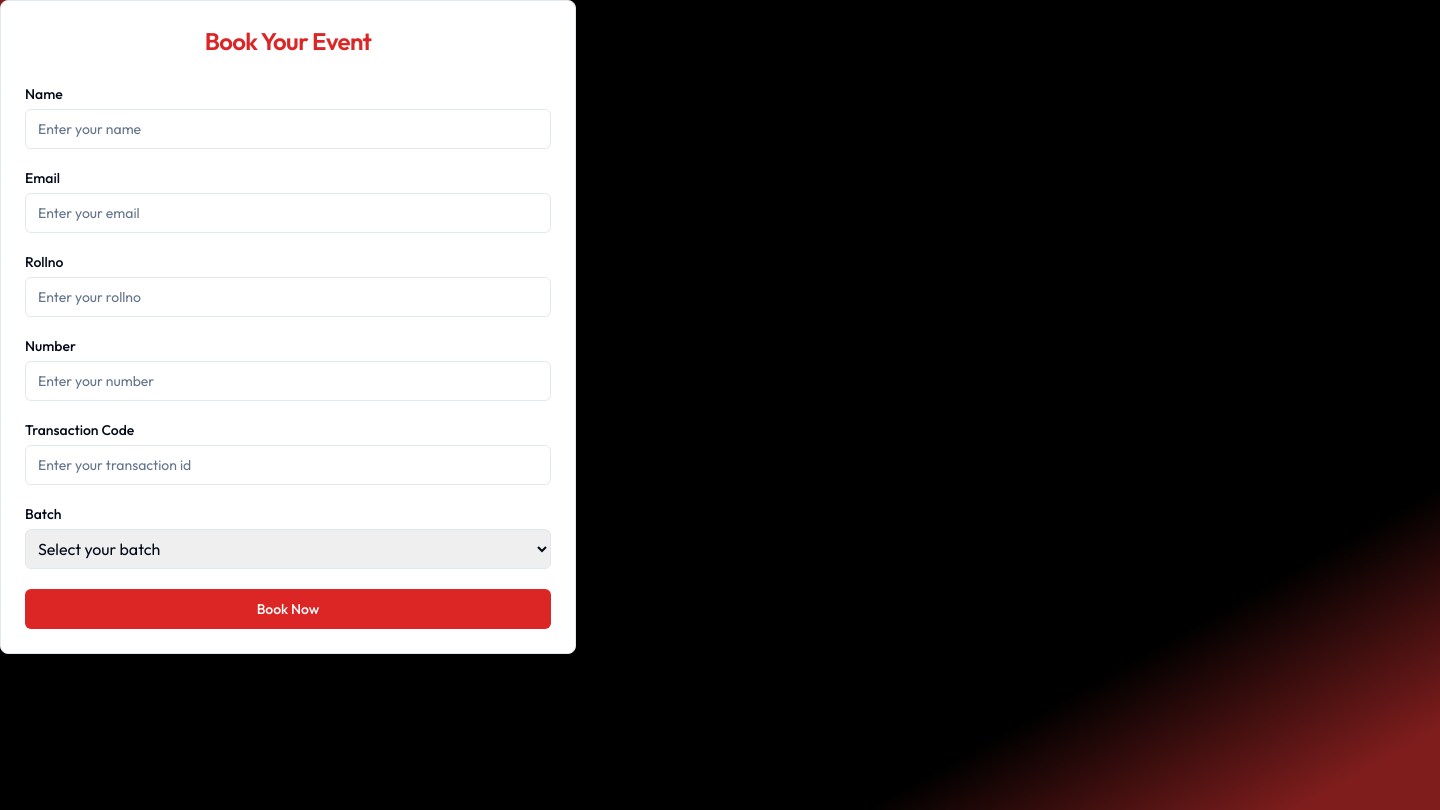
Scenario: BookingForm - Validation Tests › should reject invalid email format (no @ symbol)
Type "invalidemail" into the field labelled "Email" at (288, 213), box [25,193,551,233]
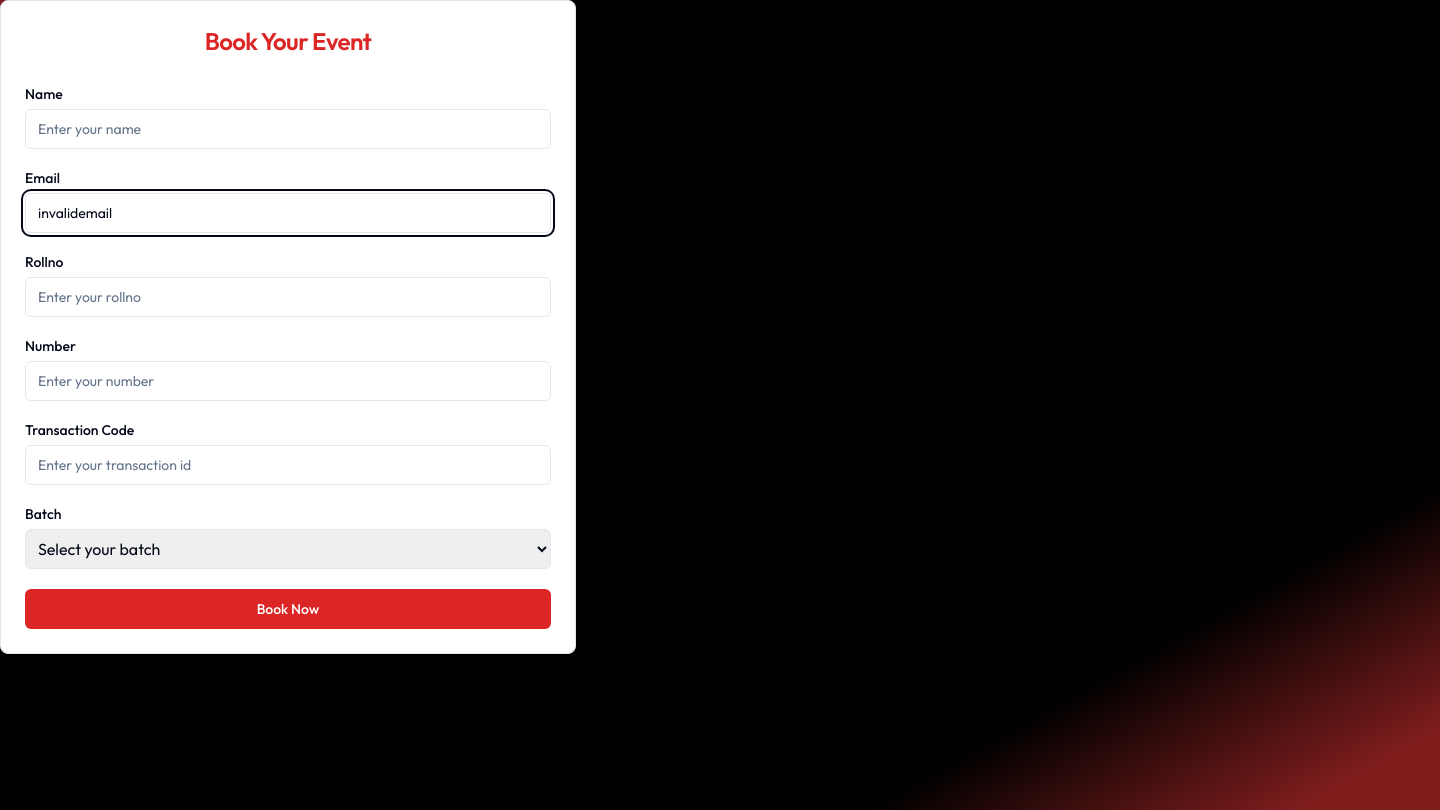
Type "Test" into the field labelled "Name" at (288, 129), box [25,109,551,149]
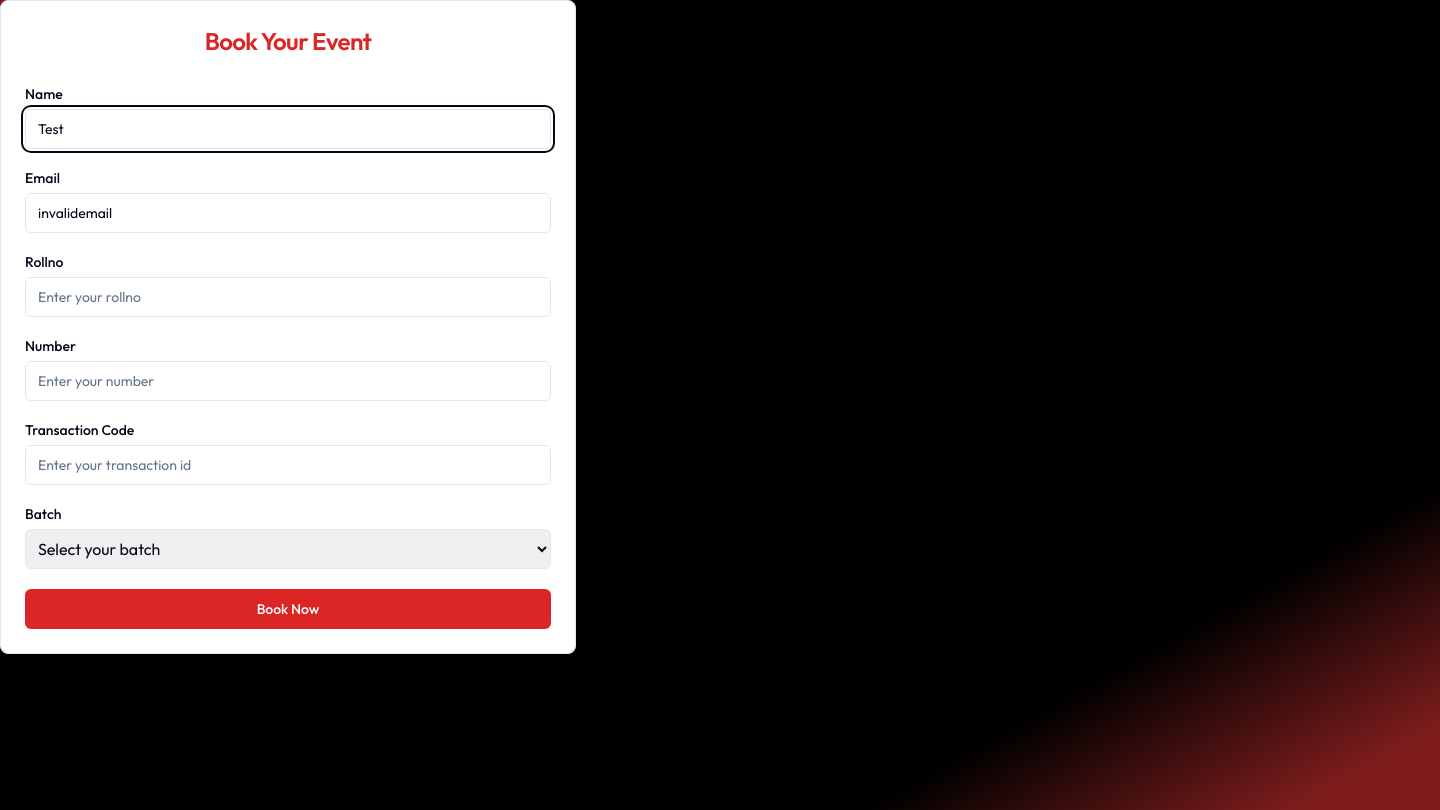
Select "Freshie" in the dropdown labelled "Batch" at (288, 549), box [25,529,551,569]
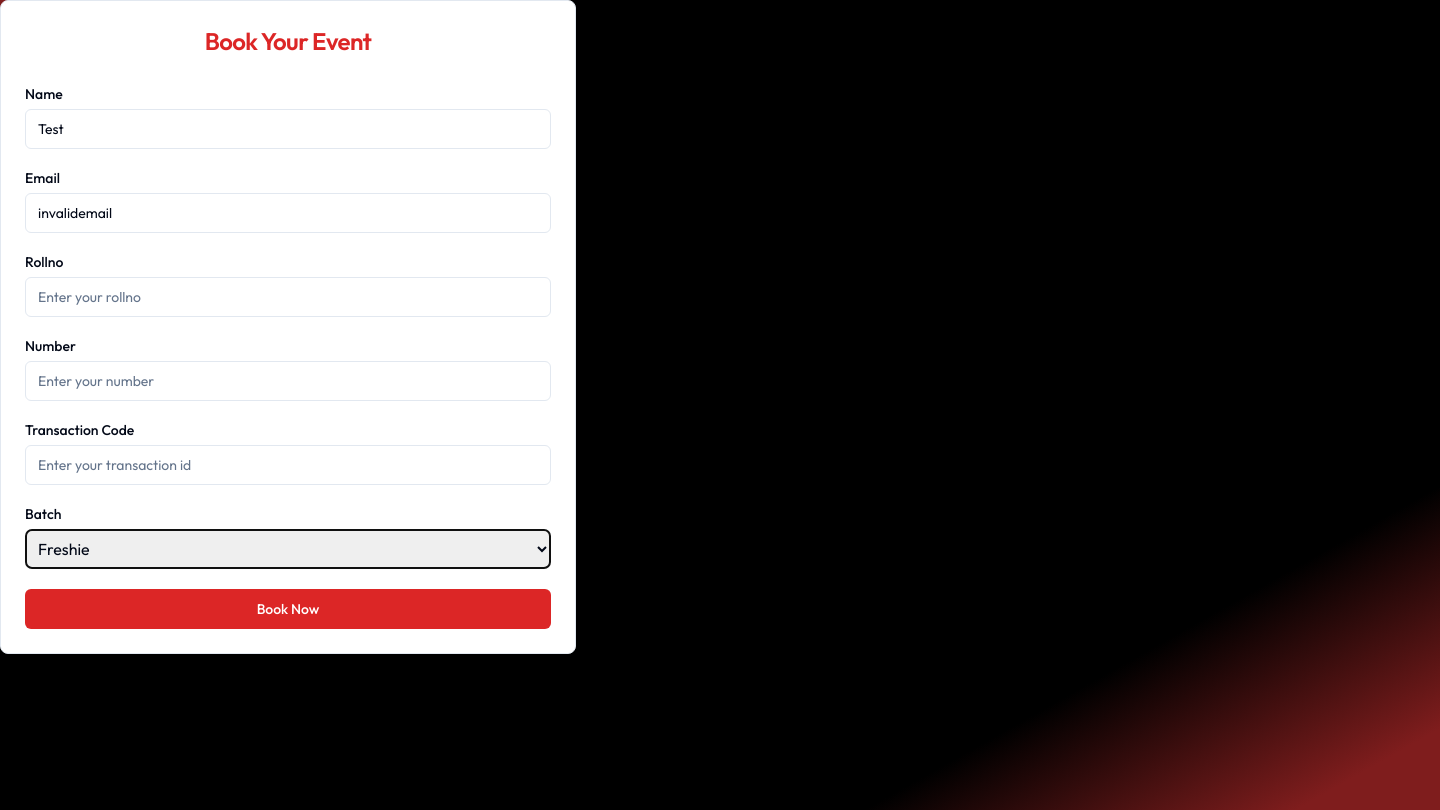
Click the button "Book Now" at (288, 609), box [25,589,551,629]
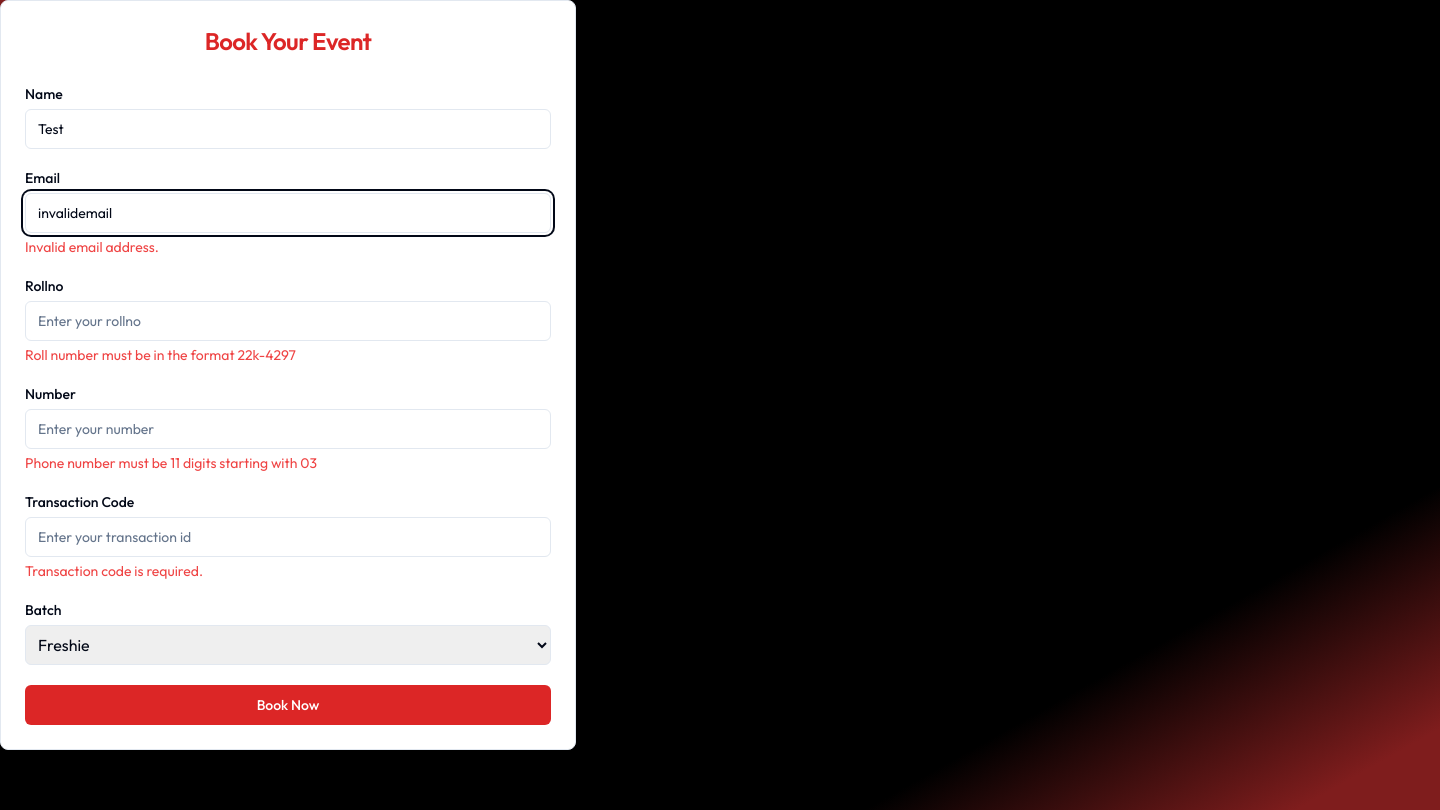
Result: the text "Invalid email address." is shown at [25,238,159,256]
